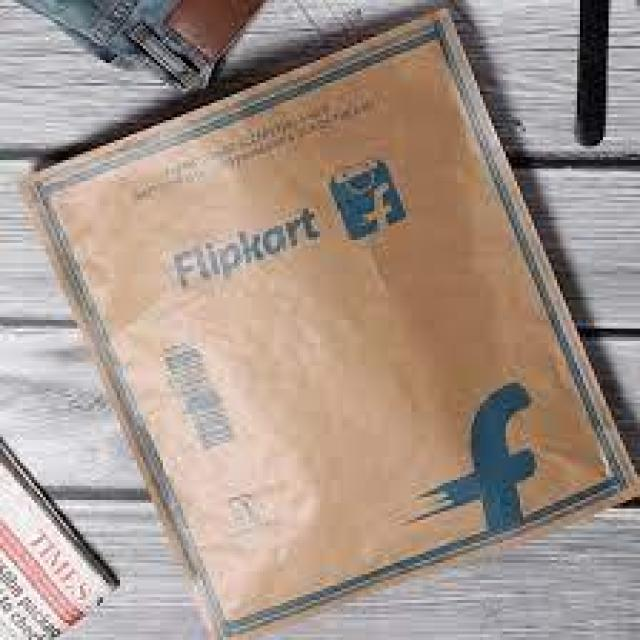box: (20, 8, 635, 630)
